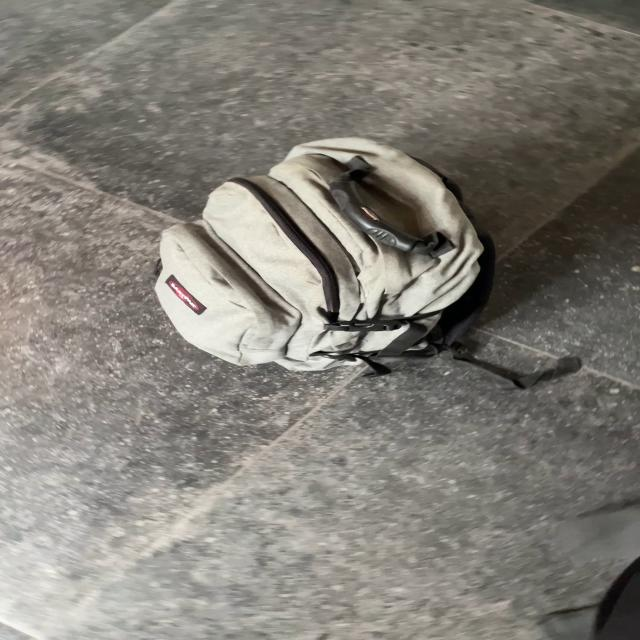backpack: (140, 131, 509, 378)
